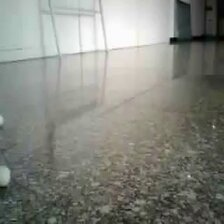w: (1, 164, 10, 186)
